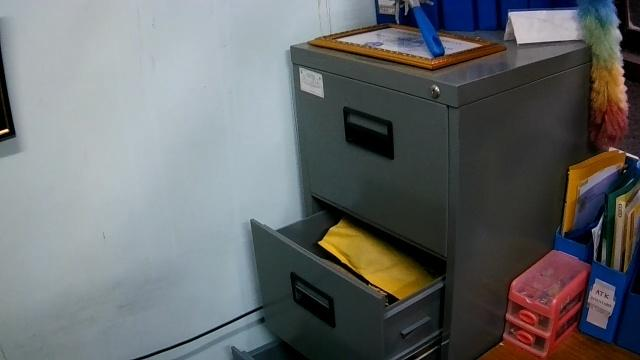Filing Cabinet: (230, 45, 458, 359)
